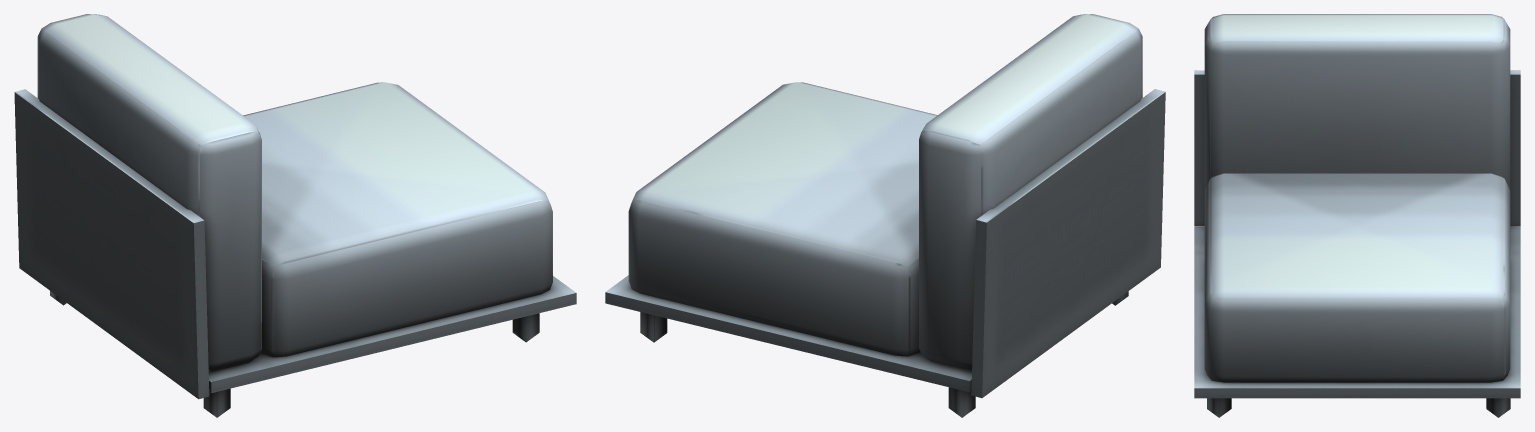
Rendered from SoftChair.dae.
3 views of the same model, side by side, from view 1: azimuth 30°, elevation 25°; view 2: azimuth 150°, elevation 25°; view 3: azimuth 270°, elevation 25° (orthographic). The views are drawn at different scales.
Visible parts, largest first — view 1: Cushion, Base; view 2: Cushion, Base; view 3: Cushion, Base.
Part boxes in pixels (x1,y1,x2,y2): Cushion: [37, 14, 552, 371]; Base: [14, 89, 576, 417]; Cushion: [628, 14, 1142, 370]; Base: [605, 89, 1165, 417]; Cushion: [1204, 14, 1510, 382]; Base: [1194, 70, 1520, 417].
Bounding box in the file's own units: 1.31 × 0.9194 × 1.07.
